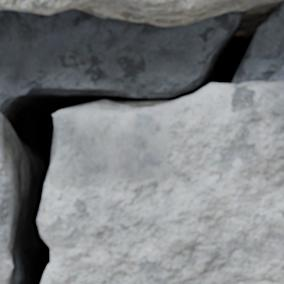brick: (0, 0, 279, 25)
broken_brick: (38, 78, 283, 283), (0, 153, 10, 283)
crack: (0, 0, 283, 283)
